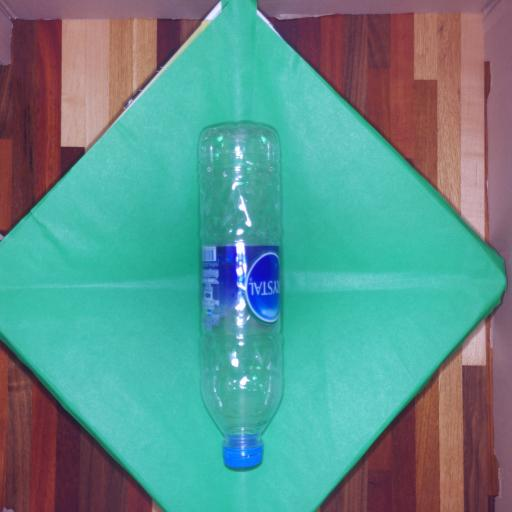bottle: (200, 125, 282, 467)
